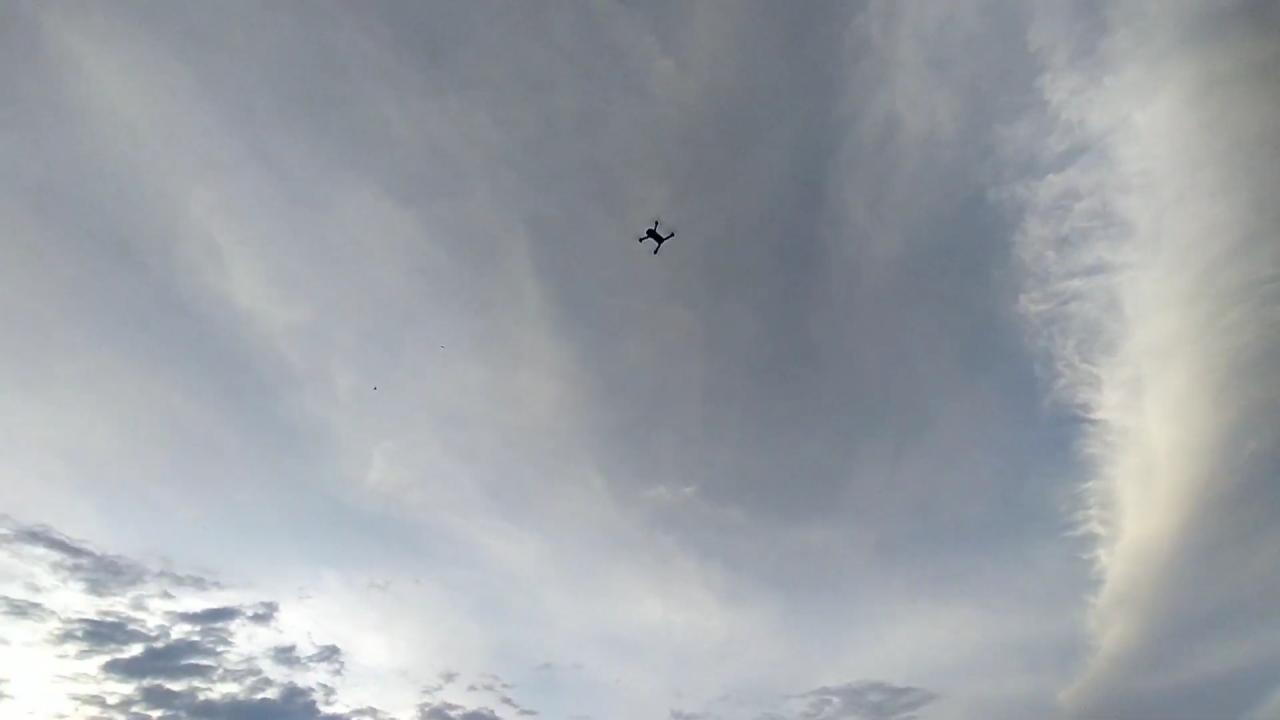Drone: (622, 207, 688, 266)
